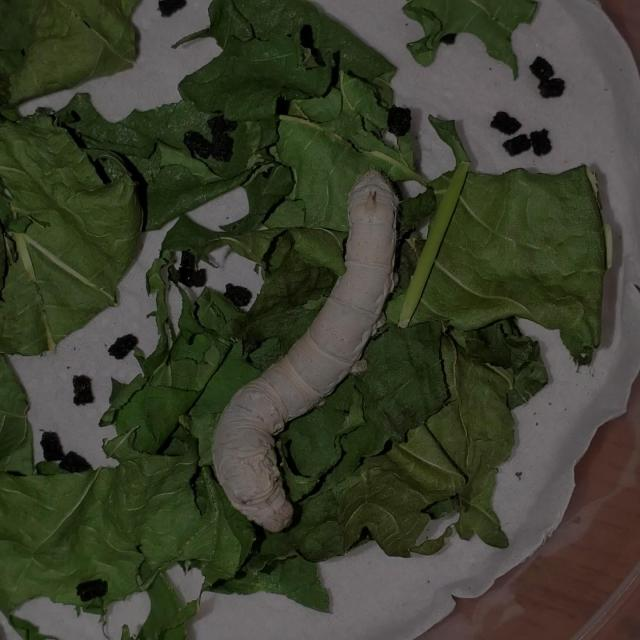Healthy: (204, 163, 406, 537)
